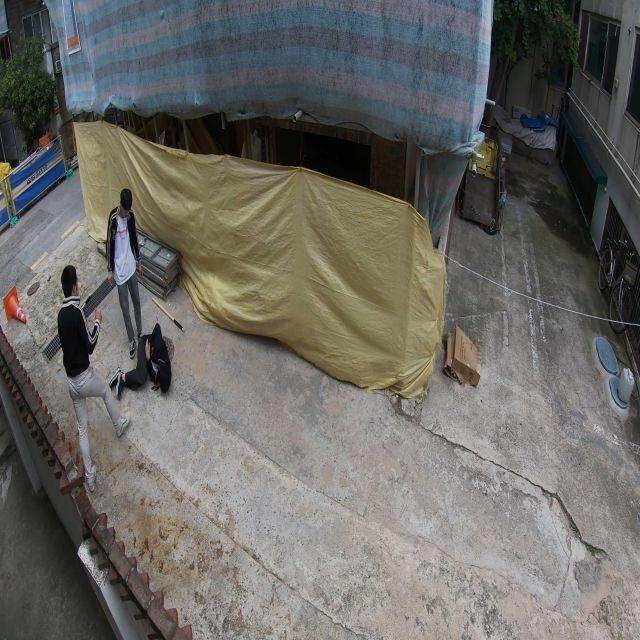fight: (58, 266, 178, 494)
non-fight: (105, 190, 143, 356)
